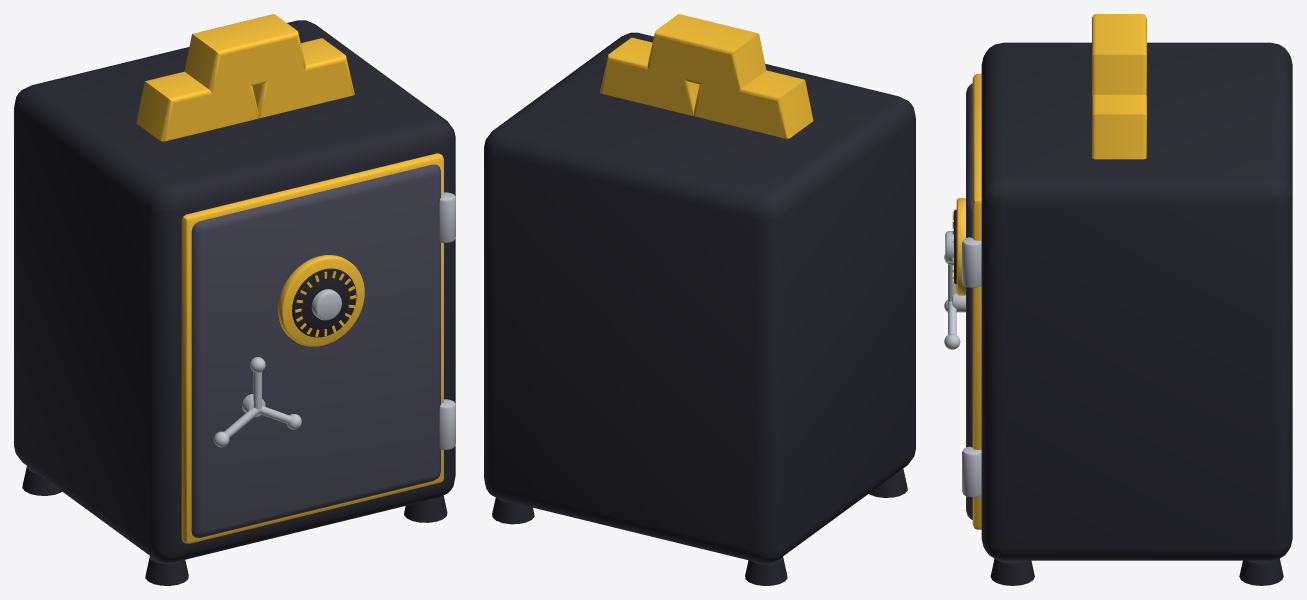
Rendered from PropSafe.fbx.
3 views of the same model, side by side, from view 1: azimuth 30°, elevation 25°; view 2: azimuth 150°, elevation 25°; view 3: azimuth 270°, elevation 25° (orthographic). The views are drawn at different scales.
Visible parts, largest first — view 1: Body, Door, Gold, Dark, Steel; view 2: Body, Gold, Dark; view 3: Body, Gold, Steel, Door, Dark.
Part boxes in pixels (x1,y1,x2,y2): Body: (14,20,455,562); Door: (191,164,440,537); Gold: (136,14,443,543); Dark: (22,268,447,585); Steel: (213,192,455,449); Body: (484,32,915,563); Gold: (600,14,813,138); Dark: (492,469,907,585); Body: (981,42,1292,560); Gold: (952,14,1146,529); Steel: (944,231,981,497); Door: (966,83,972,519); Dark: (954,209,1283,585).
Size of the model in its own units: 400 by 595 by 392.
